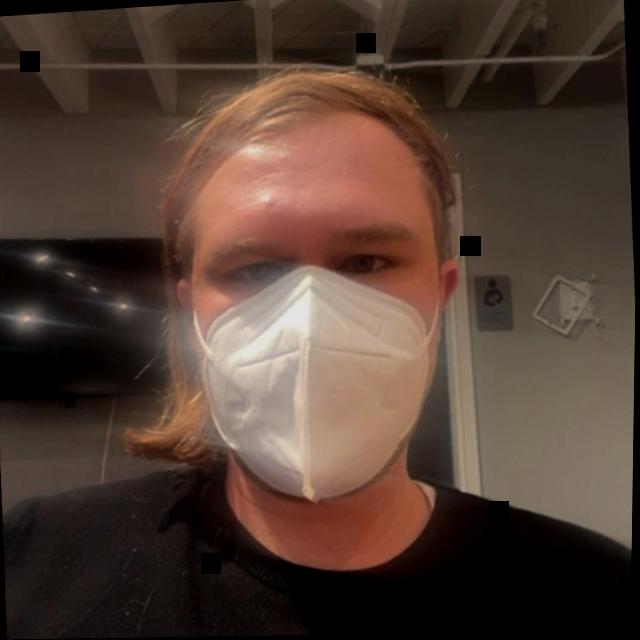Mask: (101, 42, 530, 598)
